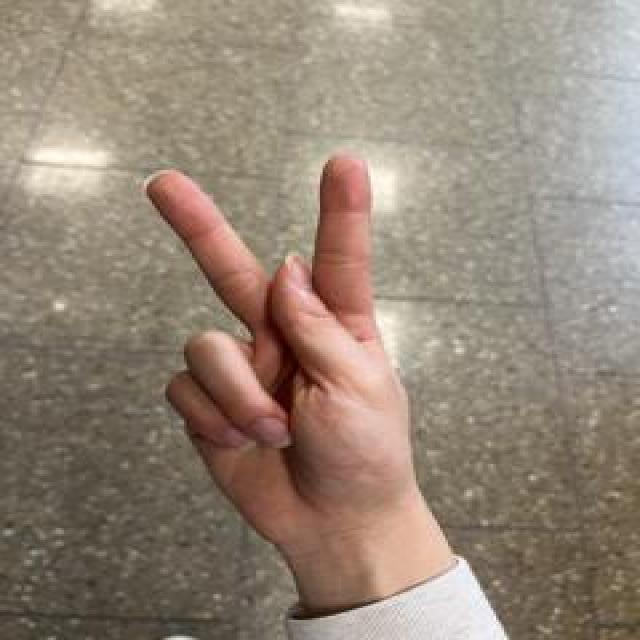K: (136, 147, 424, 559)
